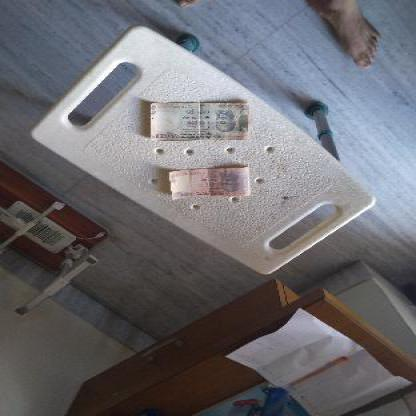Old100Front: (151, 104, 249, 141)
Old10Front: (172, 169, 251, 202)
